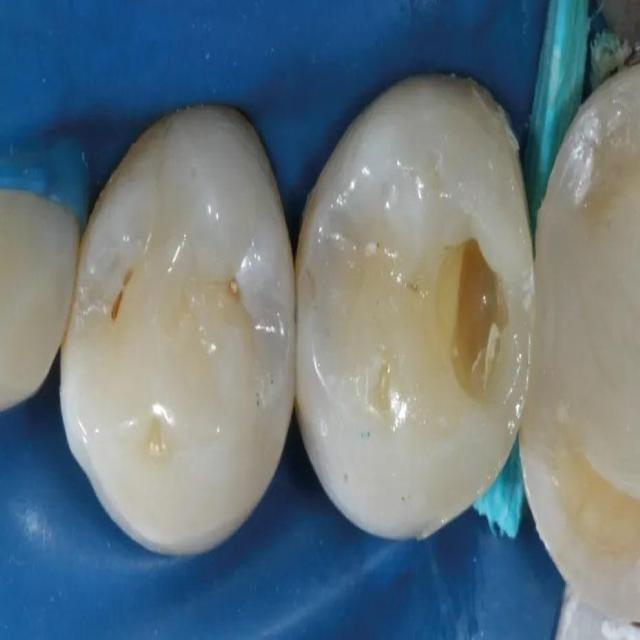Caries: (111, 290, 123, 320), (122, 272, 132, 285)
Cavity: (435, 239, 508, 405)
Tooth: (295, 74, 535, 538), (61, 103, 297, 557), (517, 59, 639, 623)
